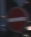No entry: (6, 5, 25, 32)
